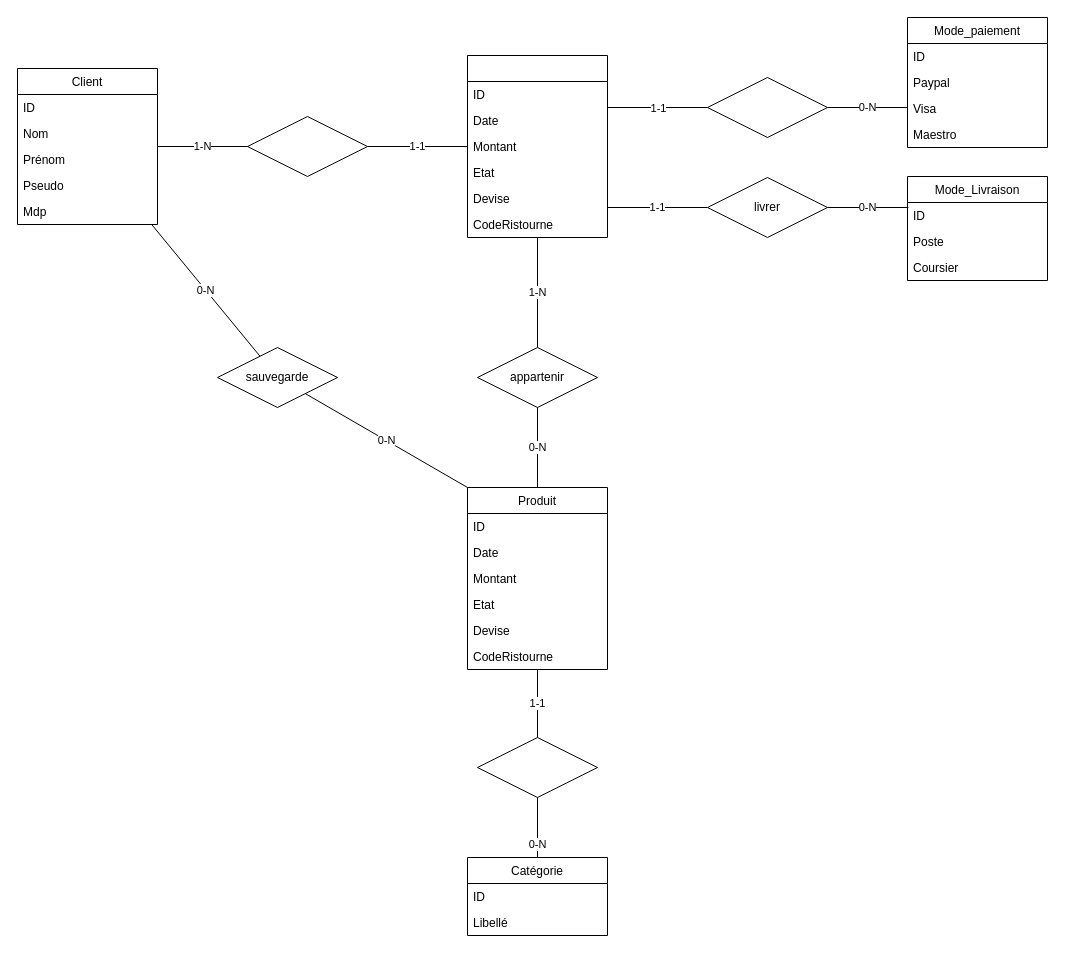
Image size: 1065x956. Some labels were removed from this diagram. The box of each missing label's shape, as (x1, y1, x2, y2) in pixels:
Commande: (466, 54, 608, 238)
faire partie de: (476, 736, 598, 798)
passer: (246, 116, 368, 176)
utiliser: (706, 76, 828, 138)
